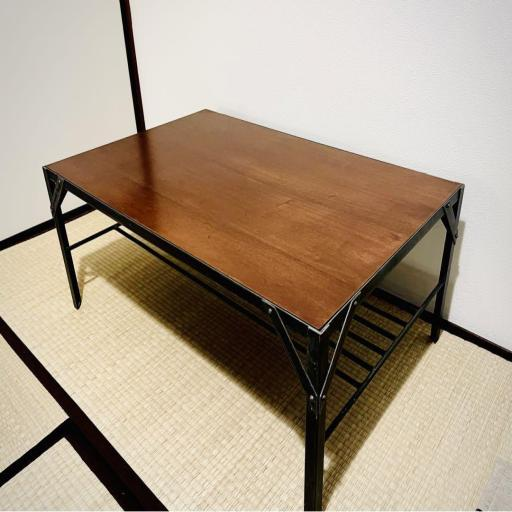table: (32, 103, 480, 479)
